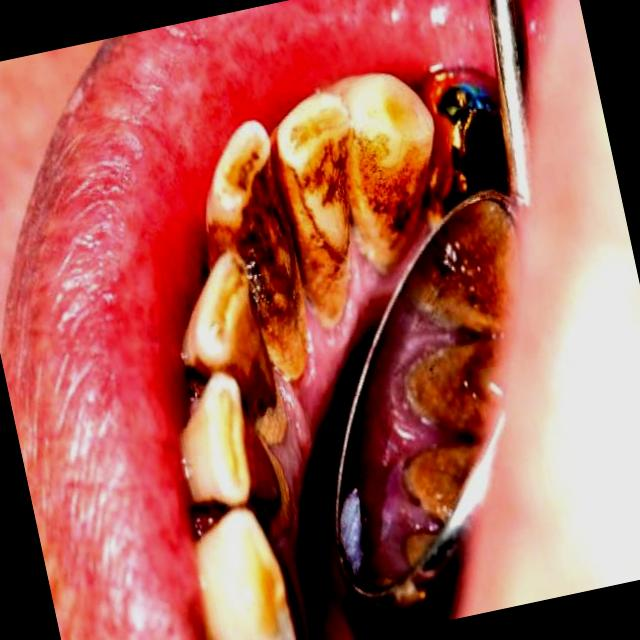calculus: (183, 117, 320, 390), (263, 89, 390, 328), (321, 62, 461, 274), (161, 243, 289, 456), (236, 410, 296, 540)
